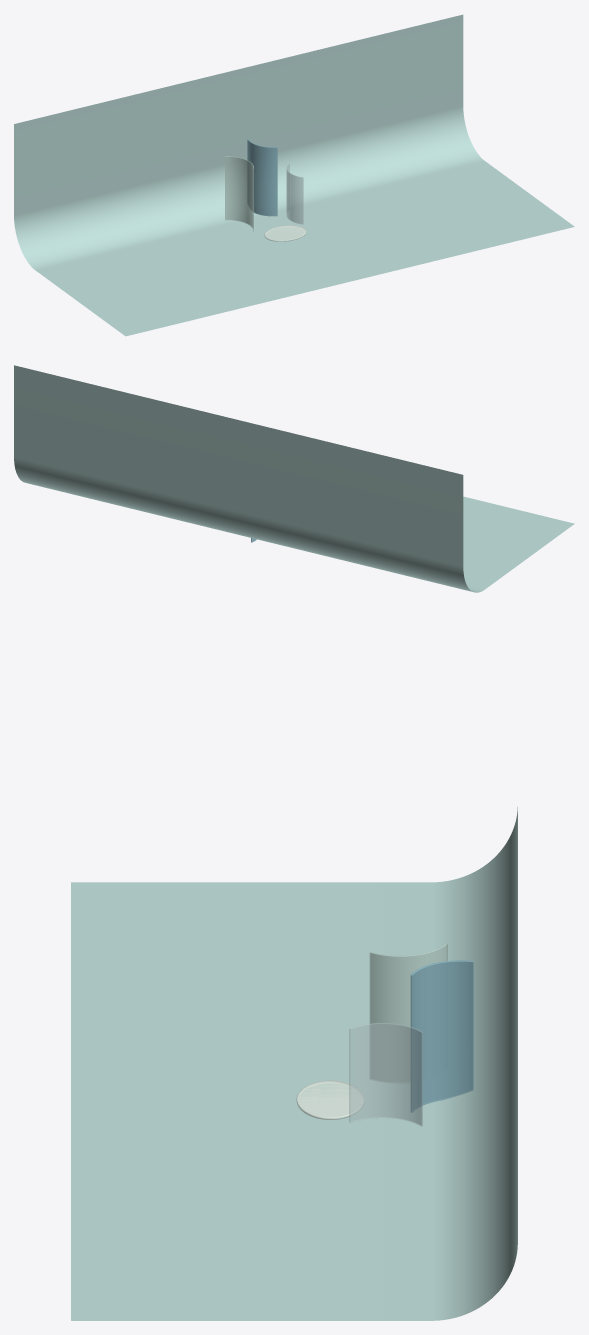
File: clearsky-atelier.glb
3 renders of one model, top to bottom at view 1: azimuth 30°, elevation 25°; view 2: azimuth 150°, elevation 25°; view 3: azimuth 270°, elevation 25°, orthographic. The views are drawn at different scales.
Visible parts, largest first — view 1: Seamless cove / horizonless shell, 03 / Distant blue return, 01 / Tall mint veil · rear left, 02 / Clear ribbon · right, 04 / Milk glass display lens; view 2: Seamless cove / horizonless shell; view 3: Seamless cove / horizonless shell, 03 / Distant blue return, 02 / Clear ribbon · right, 01 / Tall mint veil · rear left, 04 / Milk glass display lens.
Boxes of the visible parts, <box> form: Seamless cove / horizonless shell: <box>14,14,574,336</box>; 03 / Distant blue return: <box>247,139,277,216</box>; 01 / Tall mint veil · rear left: <box>225,156,253,231</box>; 02 / Clear ribbon · right: <box>286,163,303,224</box>; 04 / Milk glass display lens: <box>264,225,306,241</box>; Seamless cove / horizonless shell: <box>14,365,574,592</box>; Seamless cove / horizonless shell: <box>71,807,517,1320</box>; 03 / Distant blue return: <box>410,960,473,1112</box>; 02 / Clear ribbon · right: <box>349,1023,422,1126</box>; 01 / Tall mint veil · rear left: <box>369,943,447,1083</box>; 04 / Milk glass display lens: <box>296,1080,363,1119</box>.
Size of the model in its own units: 36 by 10 by 15.5.
